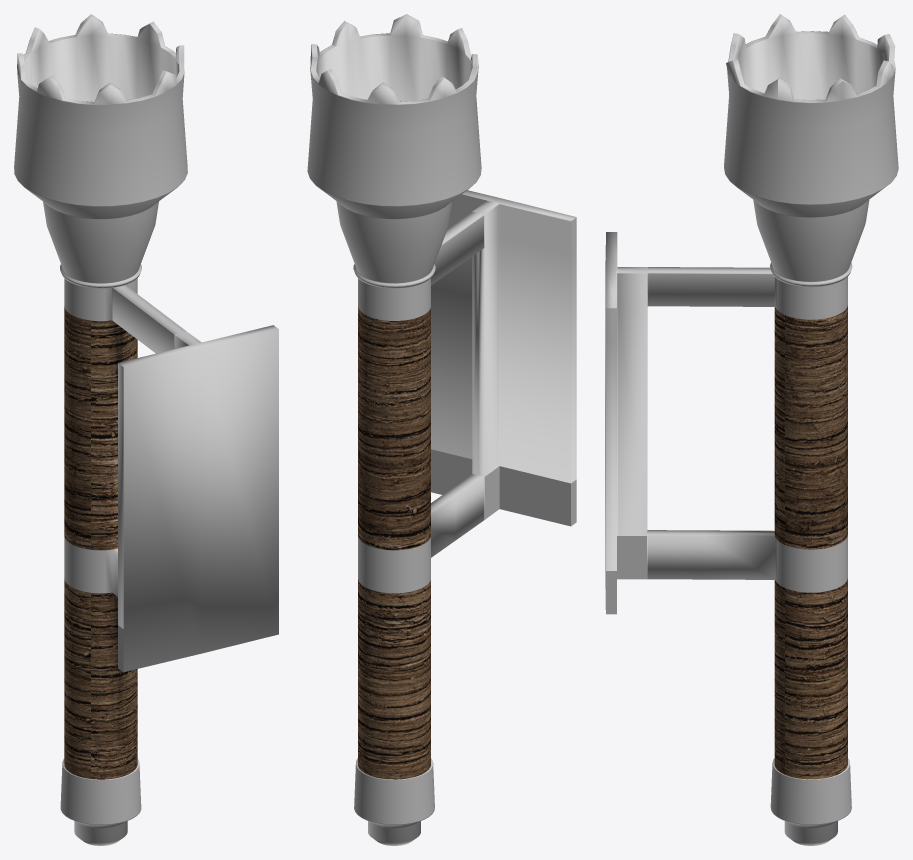
Rendered from Torch.fbx.
3 views of the same model, side by side, from view 1: azimuth 30°, elevation 25°; view 2: azimuth 150°, elevation 25°; view 3: azimuth 270°, elevation 25° (orthographic).
Parts seen in each view (by area): view 1: Окружность; view 2: Окружность; view 3: Окружность.
Boxes of the visible parts, box(x1,y1,x2,y2) form: Окружность: box(14, 14, 278, 845); Окружность: box(307, 14, 576, 845); Окружность: box(605, 14, 898, 845).
Bounding box in the file's own units: 0.6036 × 2.93 × 0.9852.
